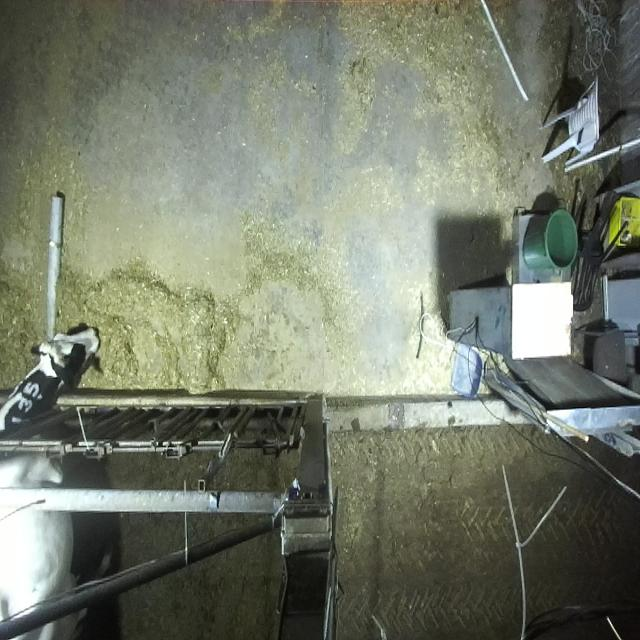cow: (30, 316, 102, 397)
